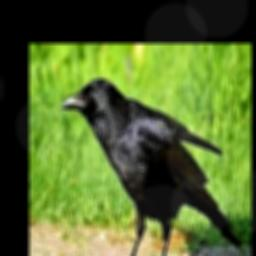Crow: (57, 77, 240, 256)
